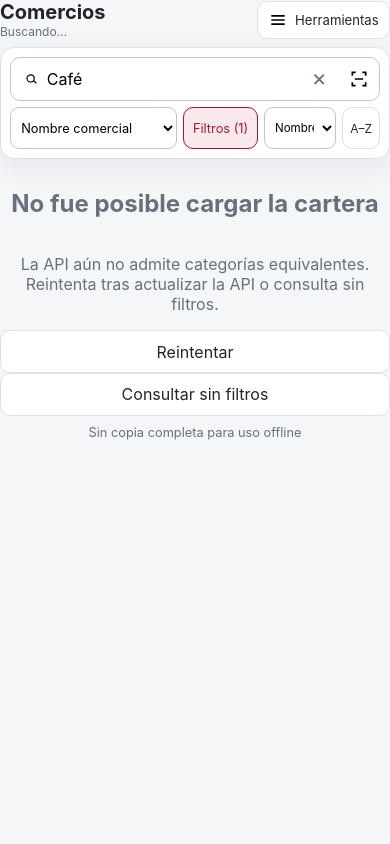
rechaza variantes con API anterior sin mostrar una página incompleta y conserva la búsqueda
The image size is (390, 844).
Check: the text "La API aún no admite categorías equivalentes" is shown, box x1=21 y1=254 x2=369 y2=314
Click the button "Consultar sin filtros". click: (195, 394)
box: x1=0 y1=373 x2=389 y2=416
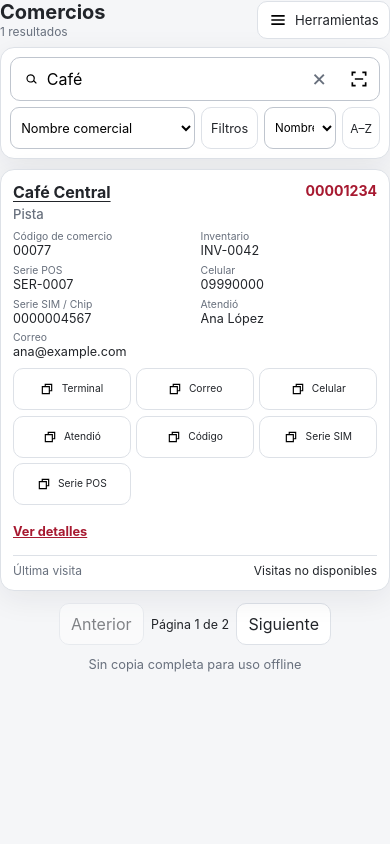
Check: the field named "Buscar comercios" holds "Café", box x1=38 y1=60 x2=299 y2=98
Check: the link "Café Central" is shown, box x1=13 y1=182 x2=111 y2=202
